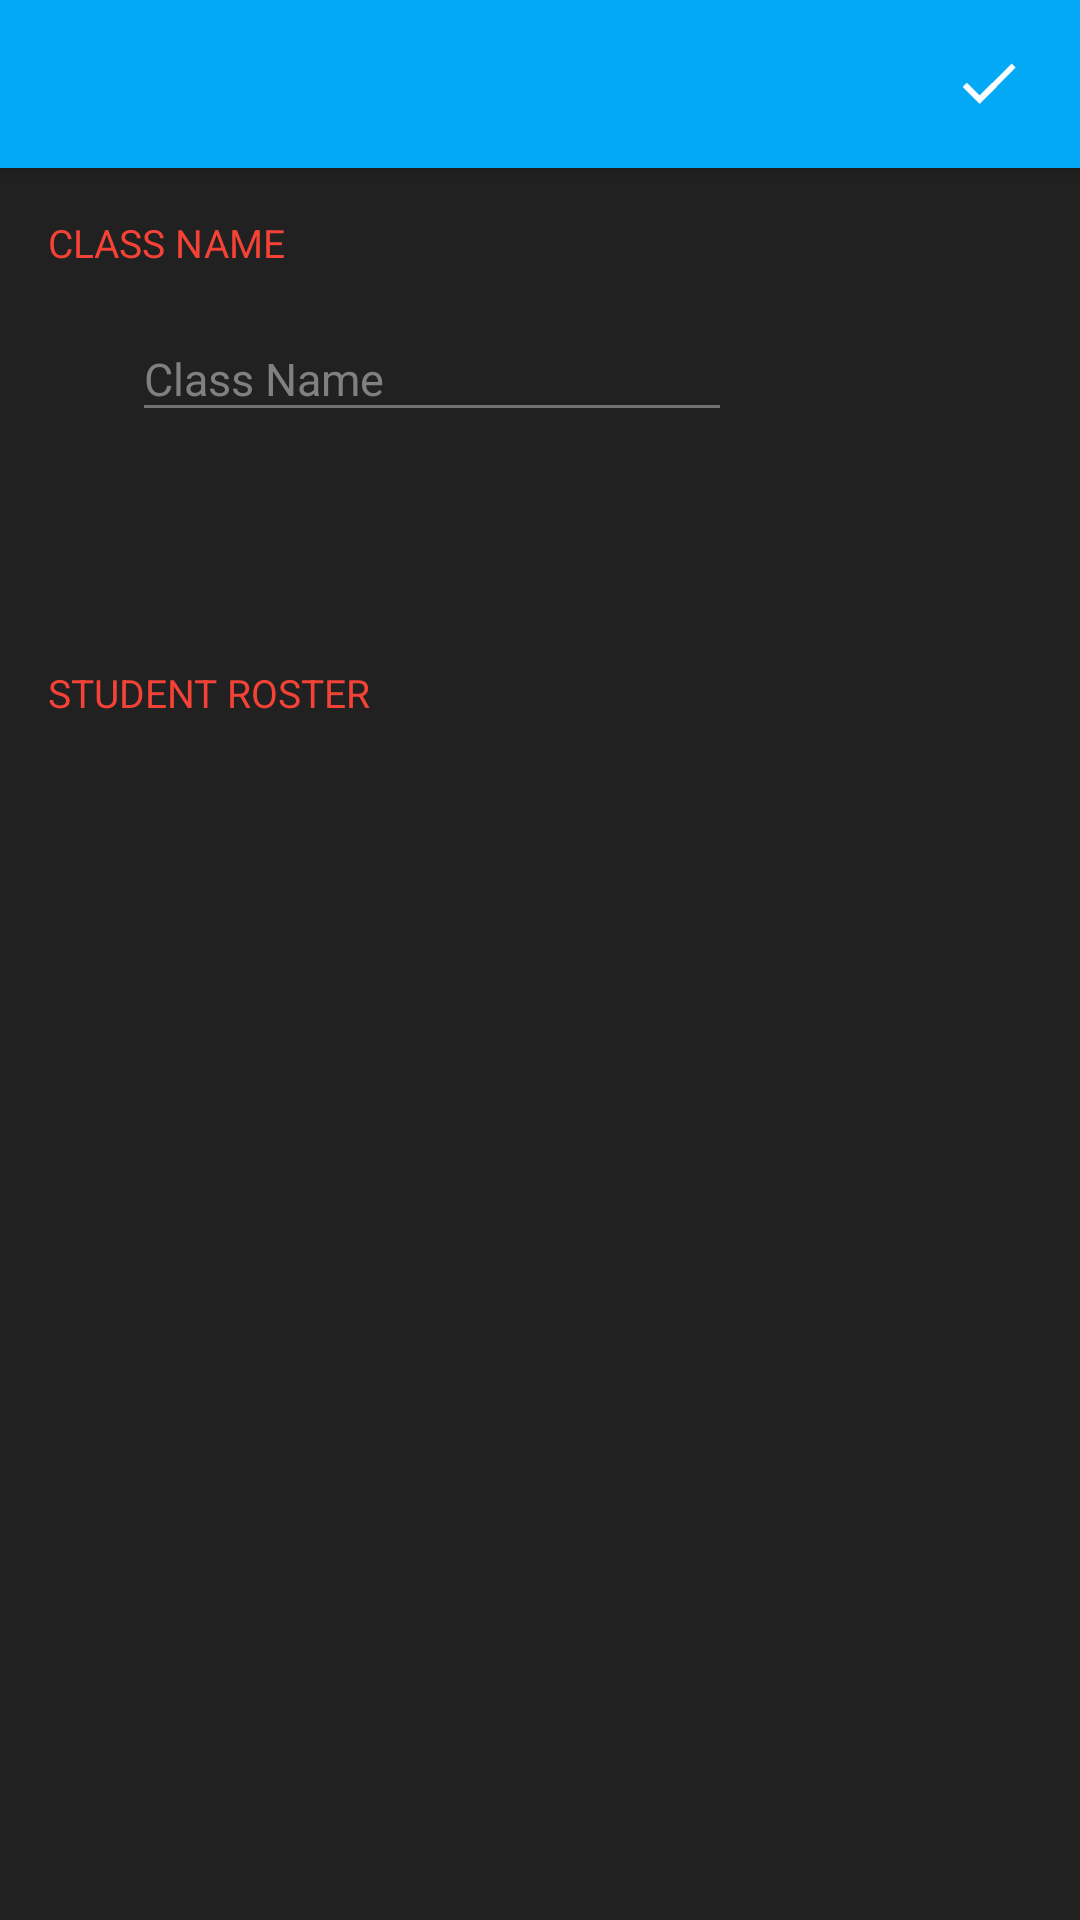

Icon bounding boxes for this 1080×1920 phone screenshot, format (x1, y1, x2, y2):
fab done: (963, 63, 1016, 104)
